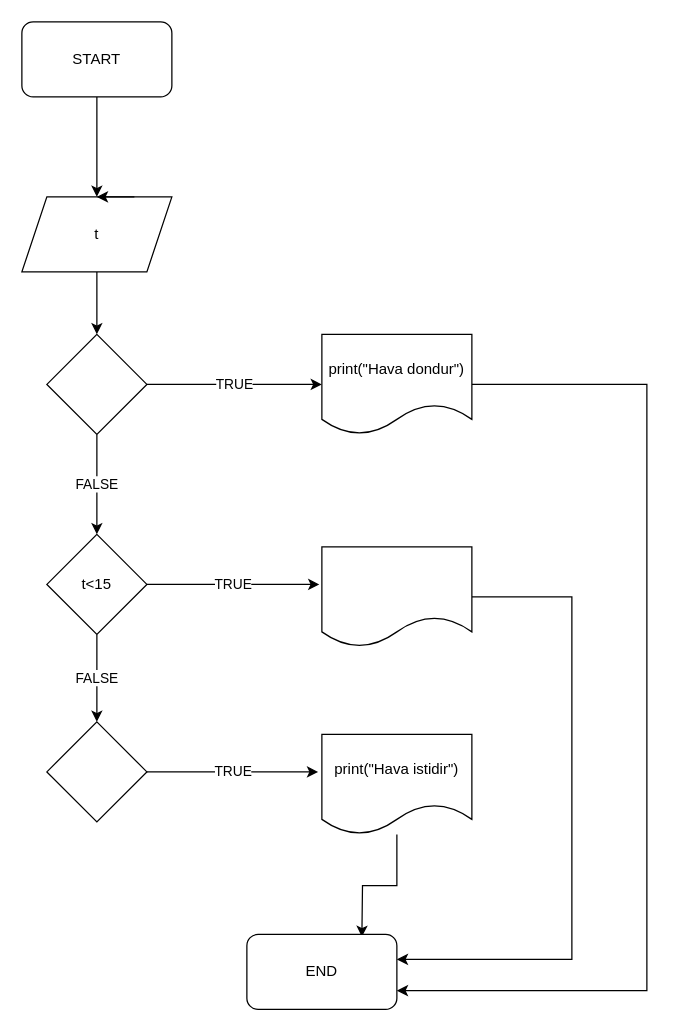
The diagram is 679 pixels wide and 1031 high, and some of its shapes have lost their labels. Here are the shapes that lost their labels. From the top down, the centre of each, then its label:
point (96, 383): t==0
point (396, 596): print("Hava soyuqdur")
point (96, 771): t>15
